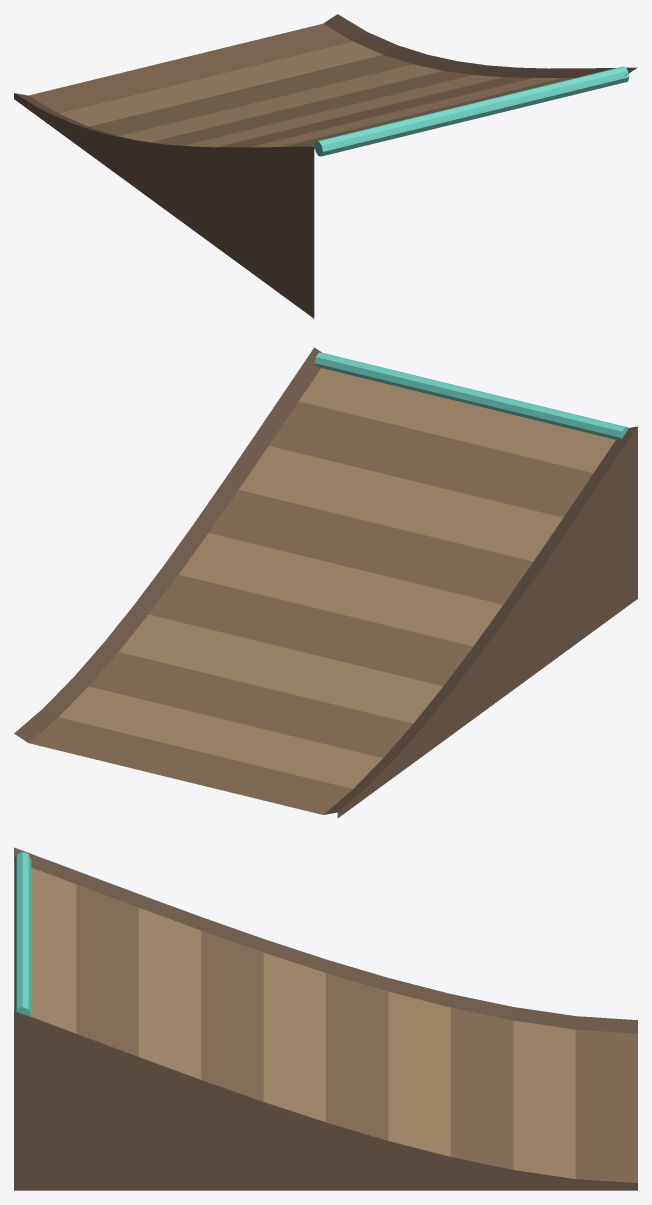
File: rn2-floresta-ramp.glb
3 views of the same model, one above another, from view 1: azimuth 30°, elevation 25°; view 2: azimuth 150°, elevation 25°; view 3: azimuth 270°, elevation 25° (orthographic). The views are drawn at different scales.
Visible parts, largest first — view 1: rn2_floresta_ramp_body, rn2_floresta_ramp_glow; view 2: rn2_floresta_ramp_body, rn2_floresta_ramp_glow; view 3: rn2_floresta_ramp_body, rn2_floresta_ramp_glow.
Boxes of the visible parts, x1,y1,x2,y2 form: rn2_floresta_ramp_body: (14, 14, 637, 318); rn2_floresta_ramp_glow: (314, 66, 629, 156); rn2_floresta_ramp_body: (14, 347, 637, 817); rn2_floresta_ramp_glow: (314, 352, 628, 439); rn2_floresta_ramp_body: (14, 847, 637, 1190); rn2_floresta_ramp_glow: (14, 852, 31, 1016).
Bounding box in the file's own units: 2.24 × 1.14 × 3.6.
